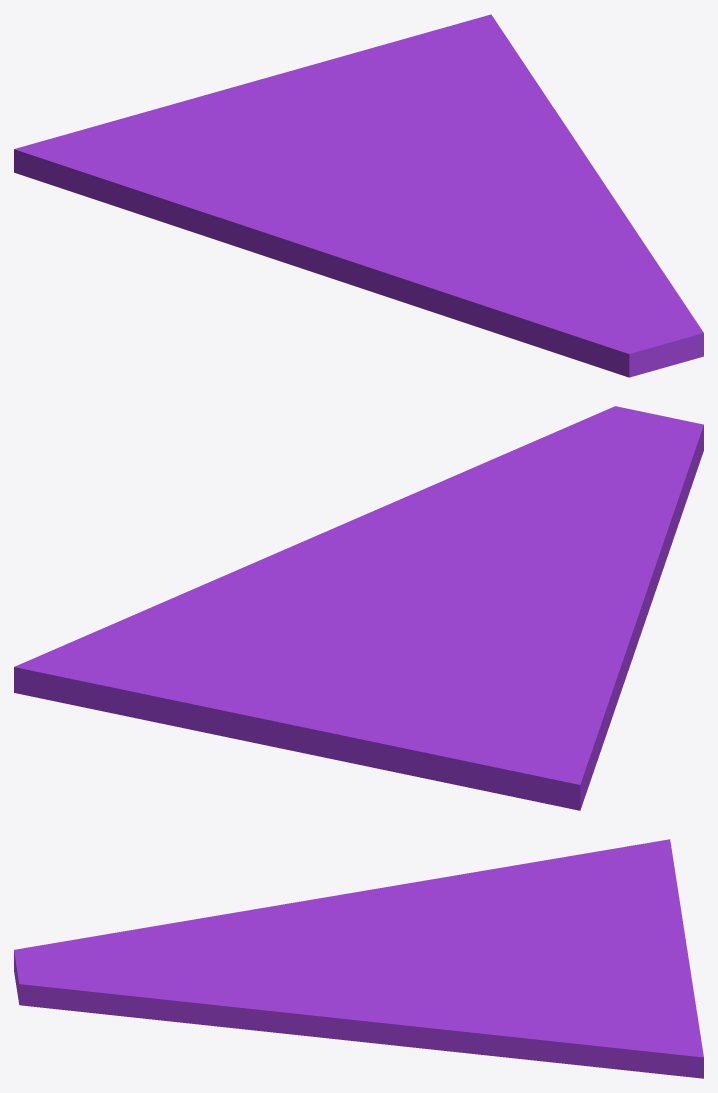
Rendered from StairsStep_18_chunks.fbx.
3 views of the same model, one above another, from view 1: azimuth 30°, elevation 25°; view 2: azimuth 150°, elevation 25°; view 3: azimuth 270°, elevation 25° (orthographic). The views are drawn at different scales.
Visible parts, largest first — view 1: StairsStep_18_1, StairsStep_18_0, StairsStep_18_2, StairsStep_18_3; view 2: StairsStep_18_1, StairsStep_18_0, StairsStep_18_2, StairsStep_18_3; view 3: StairsStep_18_1, StairsStep_18_2, StairsStep_18_0, StairsStep_18_3.
Boxes of the visible parts, bbox=[...] form: StairsStep_18_1: bbox=[150, 14, 601, 191]; StairsStep_18_0: bbox=[14, 111, 458, 315]; StairsStep_18_2: bbox=[443, 180, 703, 377]; StairsStep_18_3: bbox=[377, 183, 547, 218]; StairsStep_18_1: bbox=[14, 531, 458, 779]; StairsStep_18_0: bbox=[419, 533, 666, 810]; StairsStep_18_2: bbox=[326, 406, 703, 567]; StairsStep_18_3: bbox=[382, 547, 492, 619]; StairsStep_18_1: bbox=[340, 901, 703, 1078]; StairsStep_18_2: bbox=[14, 916, 351, 1039]; StairsStep_18_0: bbox=[213, 839, 679, 954]; StairsStep_18_3: bbox=[341, 943, 442, 995].
Size of the model in its own units: 396 by 17.94 by 529.
